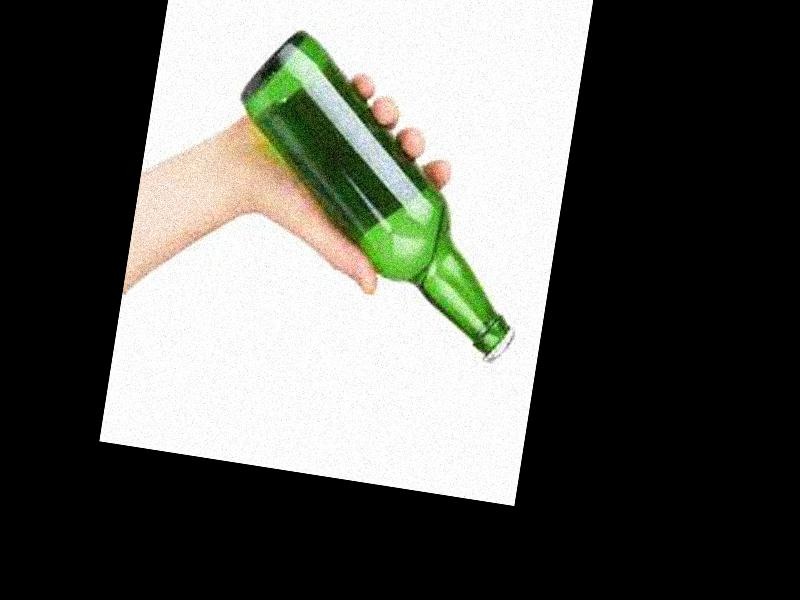Beer: (201, 25, 551, 365)
